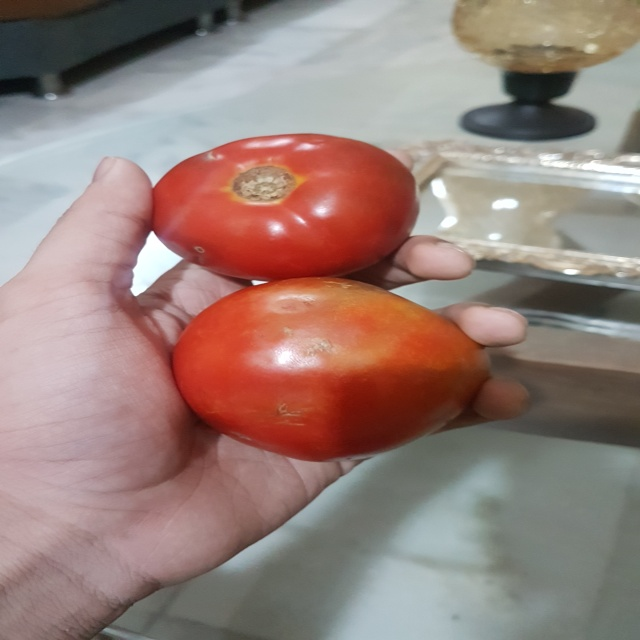tomato: (154, 279, 498, 466), (139, 125, 431, 285)
